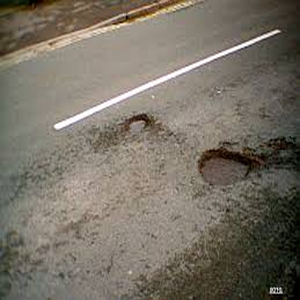pothole: (190, 143, 256, 193), (124, 116, 152, 136)
